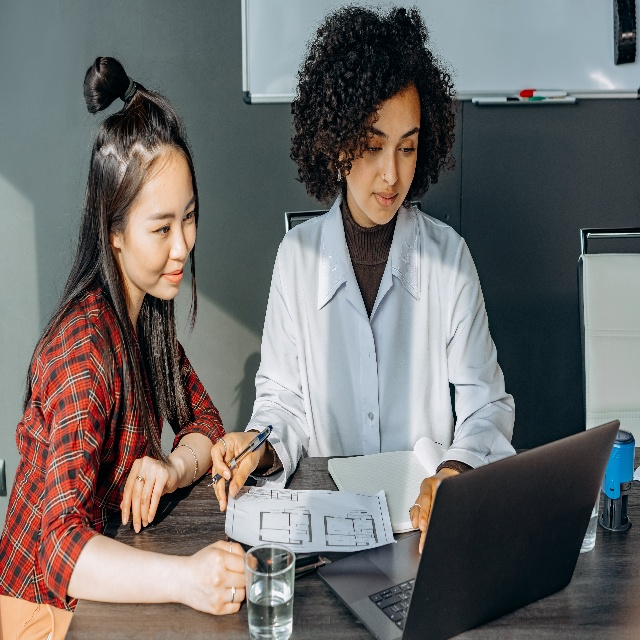Sin_guantes: (188, 538, 259, 616), (118, 453, 180, 533), (209, 427, 267, 511), (409, 467, 448, 554)
